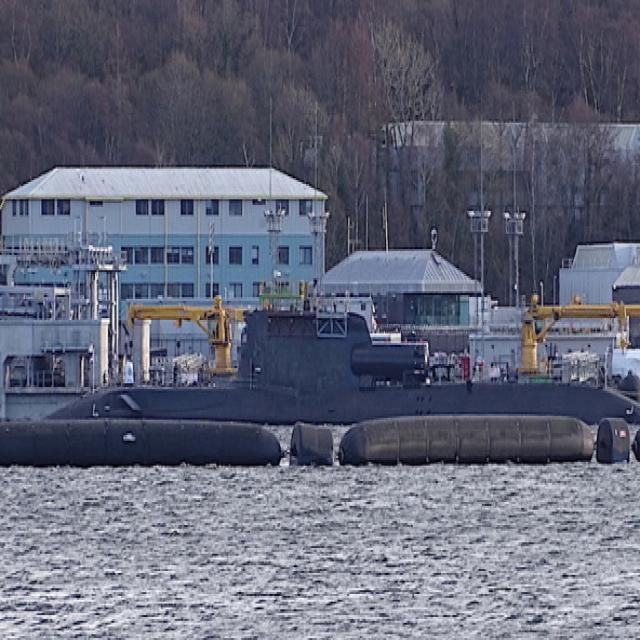submarine: (43, 310, 640, 421)
